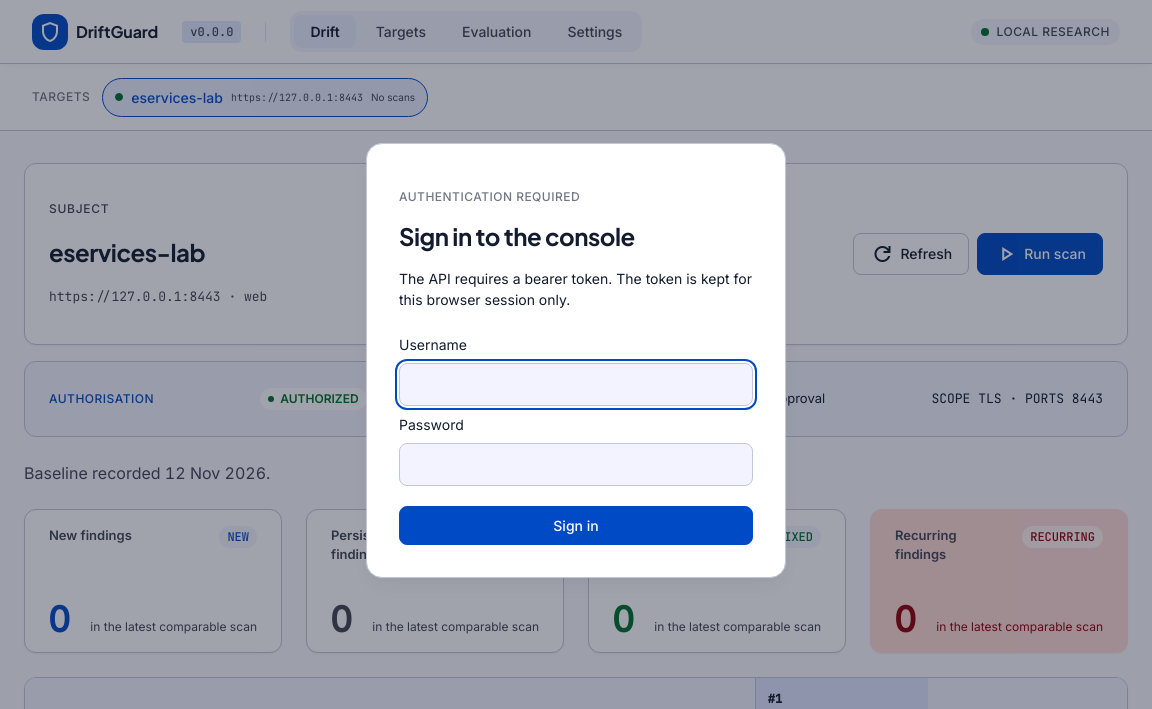
App › opens sign-in when the API answers 401 and closes it after a token
The width and height of the screenshot is (1152, 709).
expect the heading "eservices-lab" is shown: met, box [49,234,205,270]
expect the dialog is shown: met, box [366,142,786,578]
Type "alice" into the field labelled "Username" at (576, 384), box [399,362,753,406]
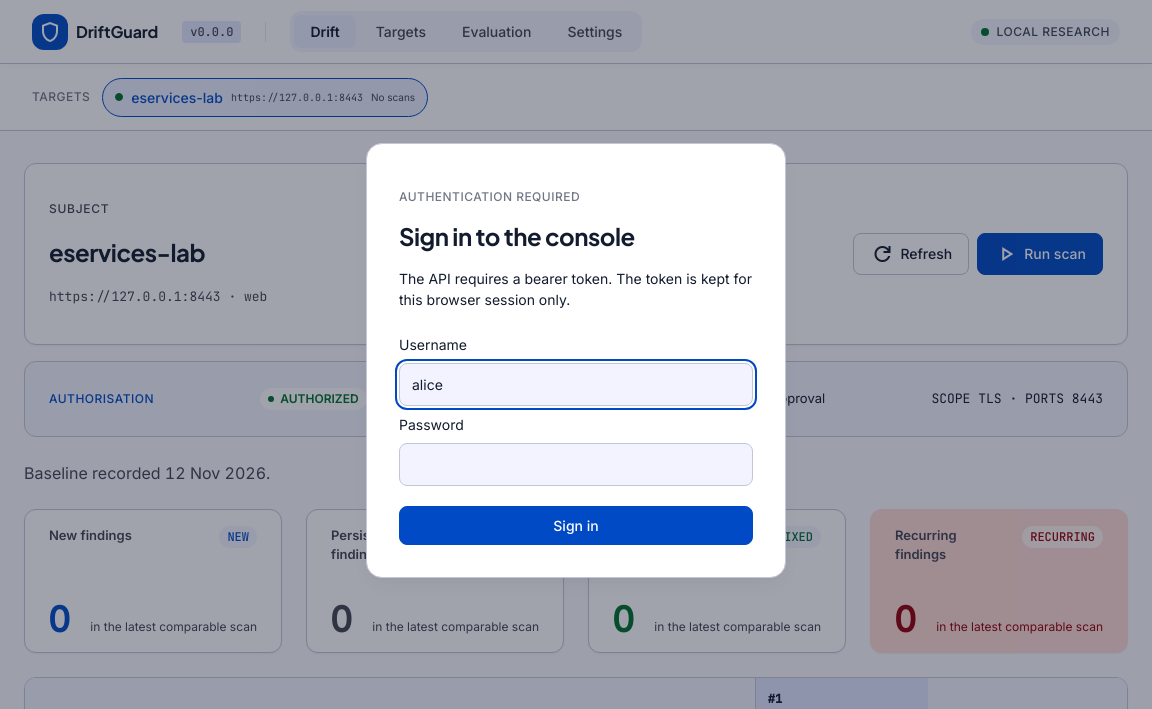
Type "hunter2" into the password field labelled "Password" at (576, 464), box [399,442,753,486]
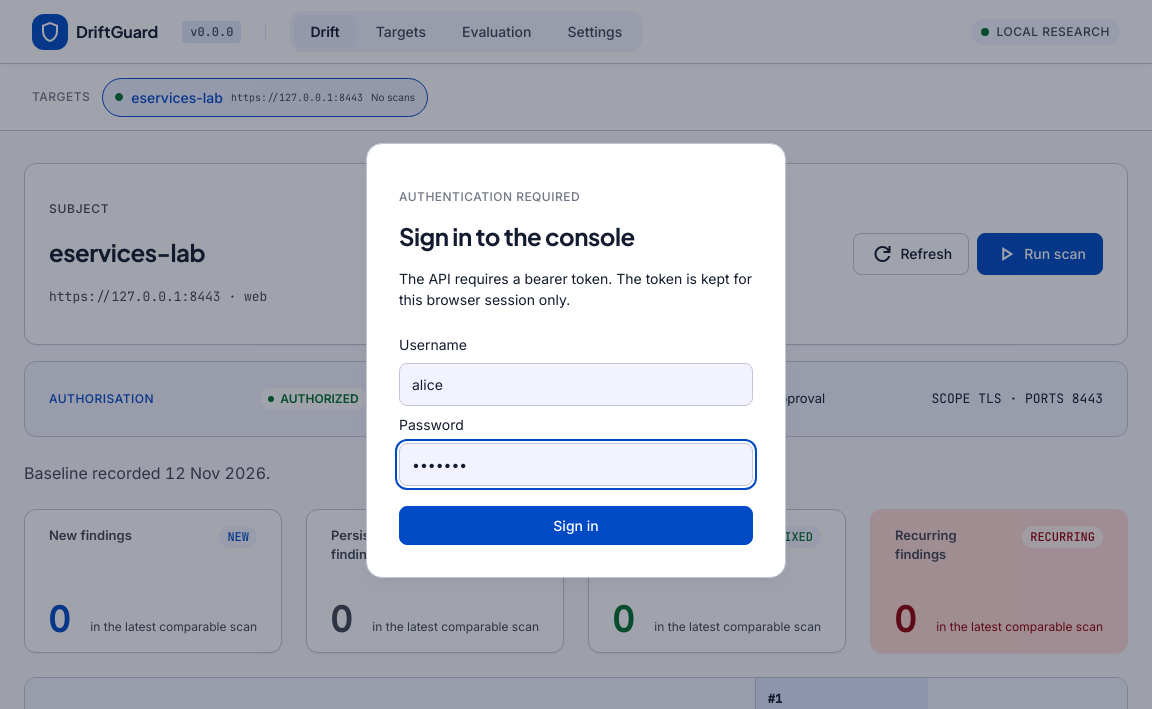
Click the button "Sign in" at (576, 525), box [399,506,753,544]
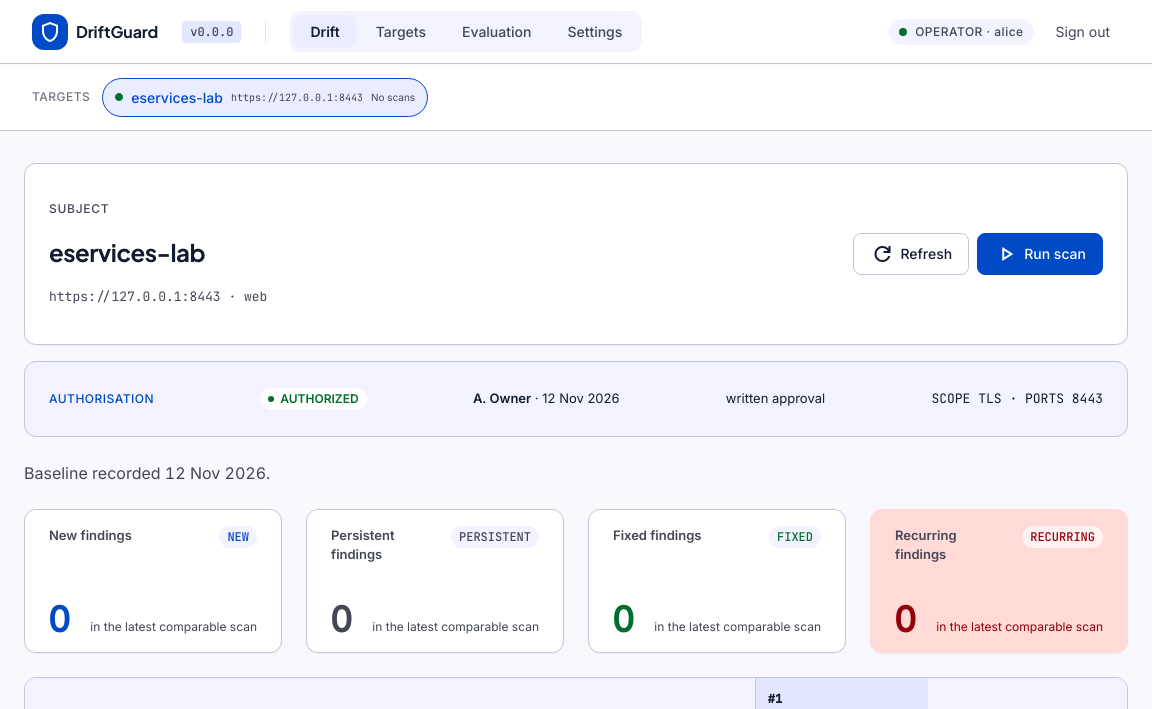
expect the dialog is gone: met
expect the text "OPERATOR · alice" is shown: met, box [889,18,1034,44]
